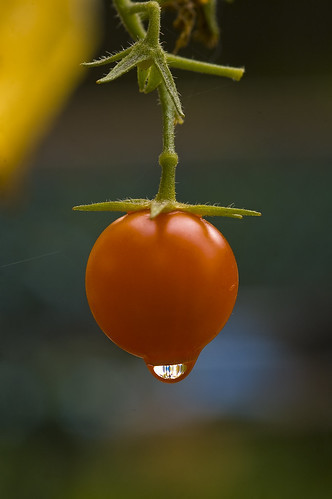tomato: (86, 208, 240, 359)
